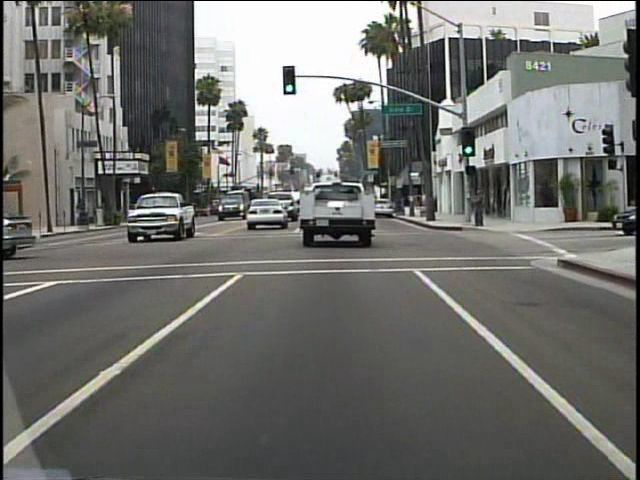person: (469, 180, 487, 230)
